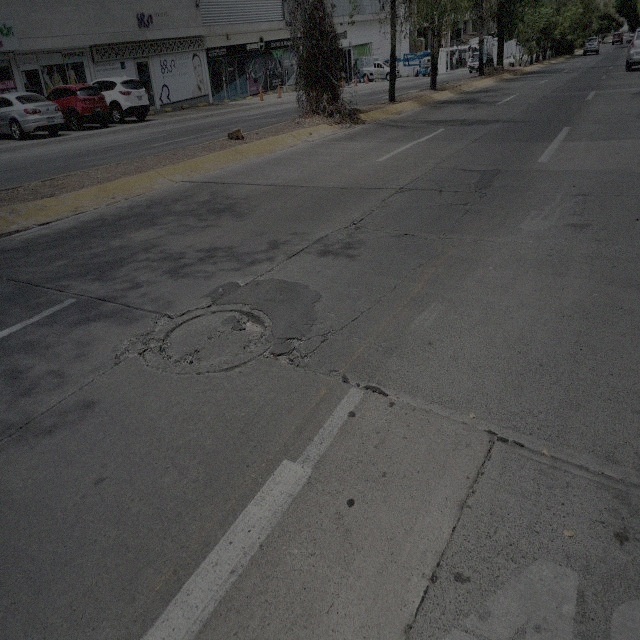pothole: (119, 331, 152, 367), (239, 309, 268, 338), (284, 335, 306, 357), (272, 350, 294, 368)
